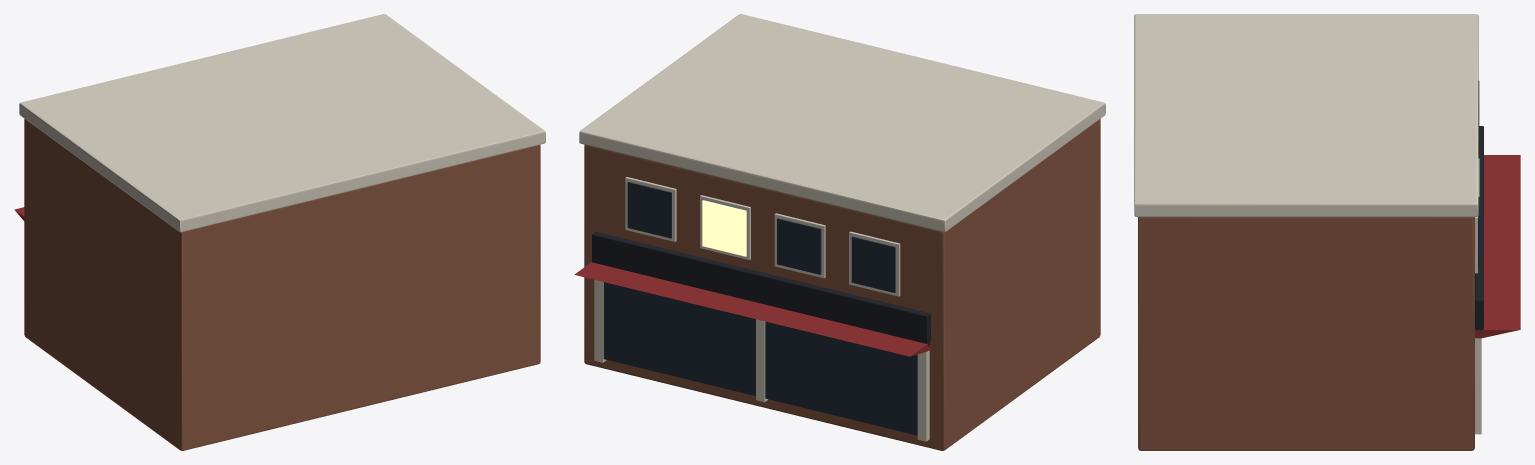
Rendered from storefront.glb.
3 renders of one model, left to right at view 1: azimuth 30°, elevation 25°; view 2: azimuth 150°, elevation 25°; view 3: azimuth 270°, elevation 25°, orthographic. The views are drawn at different scales.
Visible parts, largest first — view 1: walls, parapet; view 2: parapet, walls, shopfront, sign-band, awning, pane-0-2, pane-0-3, pane-0-0, pane-0-1, mullion--26.0, frame-0-0, mullion-0 (+4 smaller); view 3: walls, parapet, awning, sign-band, mullion-26.0.
Boxes of the visible parts, left/top/right/bottom form: walls: left=24, top=119, right=540, bottom=450; parapet: left=19, top=14, right=545, bottom=232; parapet: left=579, top=14, right=1105, bottom=232; walls: left=584, top=119, right=1100, bottom=450; shopfront: left=603, top=282, right=917, bottom=435; sign-band: left=592, top=232, right=930, bottom=346; awning: left=574, top=262, right=931, bottom=356; pane-0-2: left=702, top=200, right=746, bottom=256; pane-0-3: left=627, top=182, right=671, bottom=238; pane-0-0: left=851, top=236, right=895, bottom=292; pane-0-1: left=777, top=218, right=821, bottom=274; mullion--26.0: left=917, top=350, right=929, bottom=441; frame-0-0: left=849, top=231, right=900, bottom=296; mullion-0: left=756, top=319, right=767, bottom=402; walls: left=1138, top=217, right=1474, bottom=450; parapet: left=1134, top=14, right=1478, bottom=216; awning: left=1475, top=155, right=1520, bottom=338; sign-band: left=1475, top=126, right=1483, bottom=333; mullion-26.0: left=1475, top=338, right=1481, bottom=434.
Bounding box in the file's own units: 59 × 36 × 50.5.
